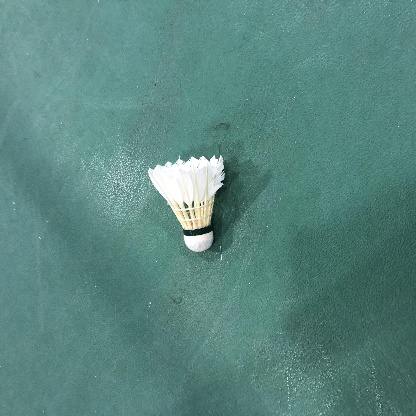ball_single: (147, 156, 225, 252)
